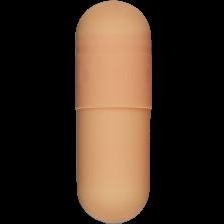10544-557: (0, 0, 224, 224)
